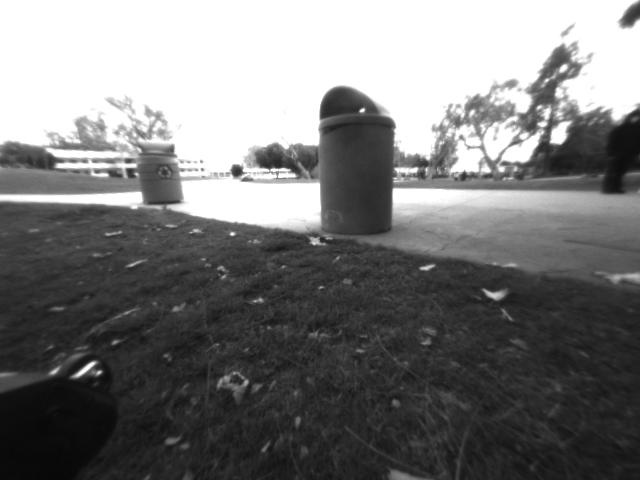trashcan: (313, 76, 403, 236)
